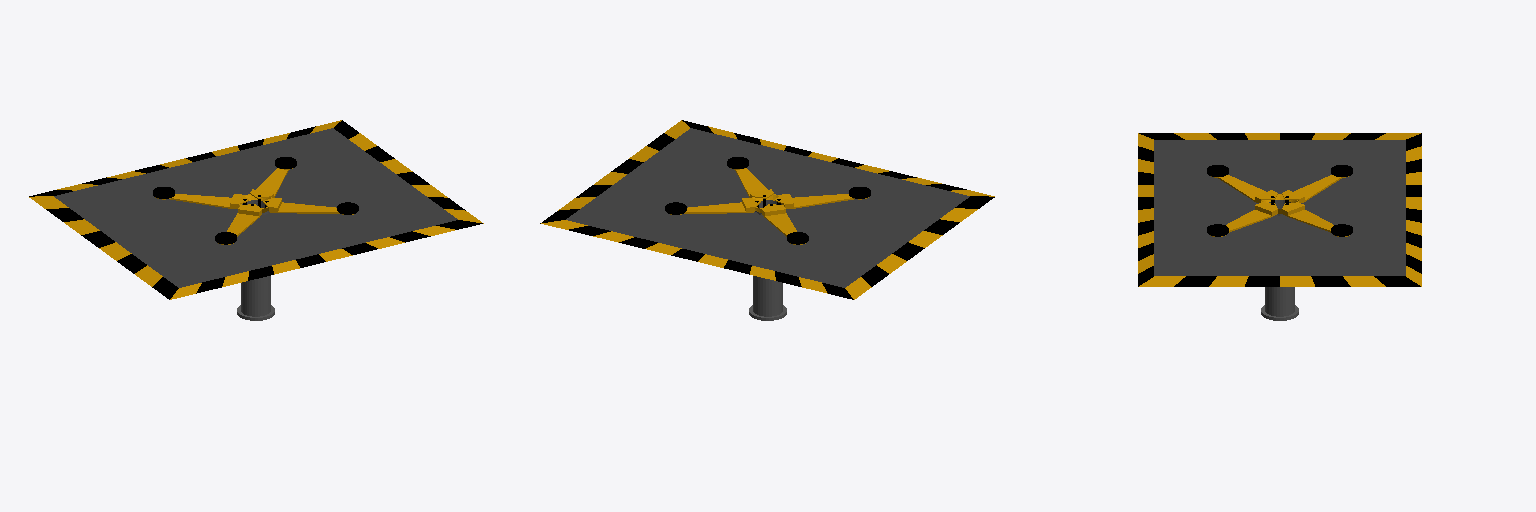
File: Car_Tower_Lift.obj
The picture shows the model from 3 angles: view 1: azimuth 30°, elevation 25°; view 2: azimuth 150°, elevation 25°; view 3: azimuth 270°, elevation 25°; orthographic projection.
Visible parts, largest first — view 1: Plane, Circle.001, Plane.002, Plane.001; view 2: Plane, Circle.001, Plane.001, Plane.002; view 3: Plane, Circle.001, Plane.001, Plane.002.
Part boxes in pixels (x1,y1,x2,y2): Plane: (54,128,457,287); Circle.001: (153,157,358,320); Plane.002: (29,120,483,299); Plane.001: (29,120,482,299); Plane: (566,128,969,287); Circle.001: (665,157,870,320); Plane.001: (540,120,994,299); Plane.002: (541,120,994,299); Plane: (1154,140,1405,275); Circle.001: (1207,165,1352,320); Plane.001: (1138,133,1421,286); Plane.002: (1138,133,1421,286).
Size of the model in its own units: 4.5 by 1.56 by 3.51.